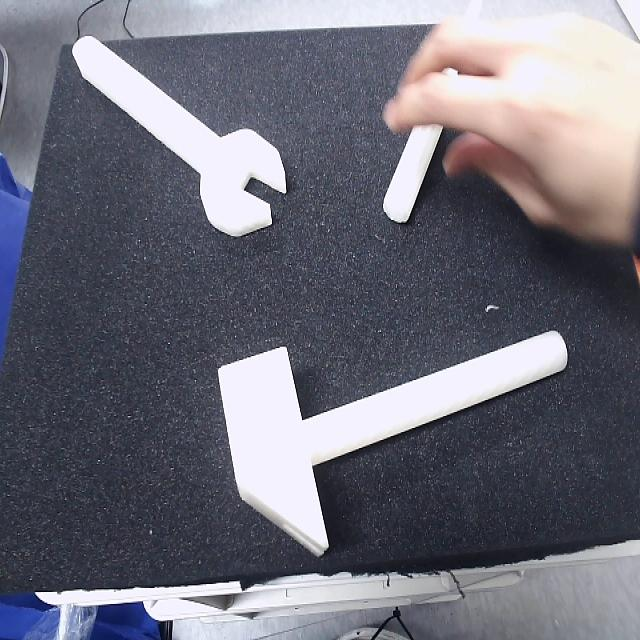Hammer: (217, 332, 569, 559)
Spanner: (72, 36, 288, 239)
